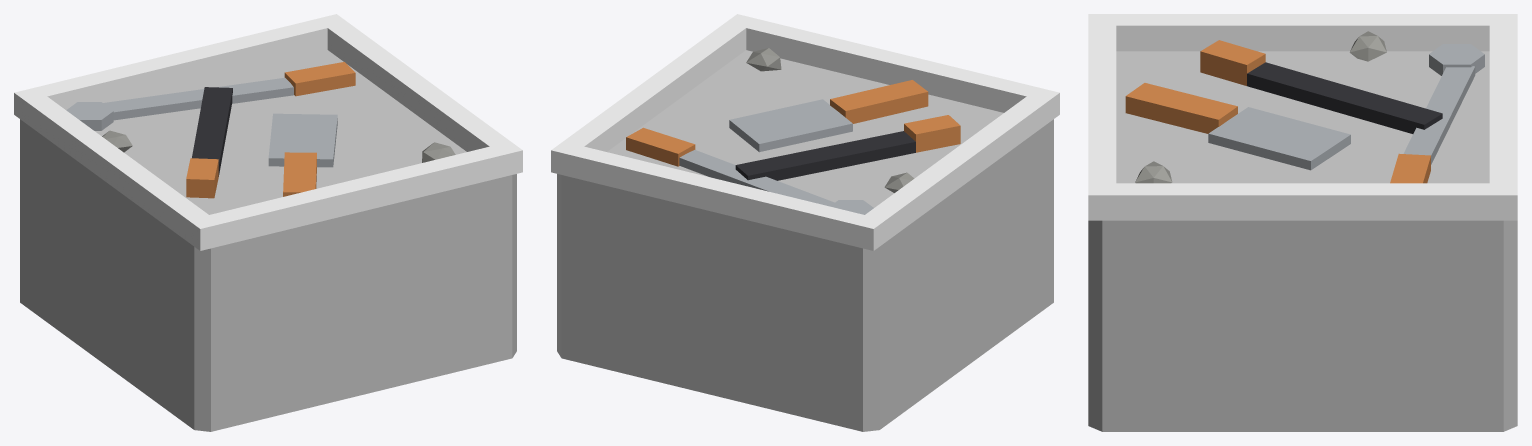
Rendered from vfem2_chisel_rack.obj.
3 views of the same model, side by side, from view 1: azimuth 30°, elevation 25°; view 2: azimuth 150°, elevation 25°; view 3: azimuth 270°, elevation 25° (orthographic). The views are drawn at different scales.
Parts seen in each view (by area): view 1: vfem2_chisel_rack; view 2: vfem2_chisel_rack; view 3: vfem2_chisel_rack.
Part boxes in pixels (bbox=[...]): vfem2_chisel_rack: bbox=[14, 14, 522, 431]; vfem2_chisel_rack: bbox=[551, 14, 1059, 431]; vfem2_chisel_rack: bbox=[1088, 14, 1517, 431].
Size of the model in its own units: 0.92 by 0.56 by 0.92.
